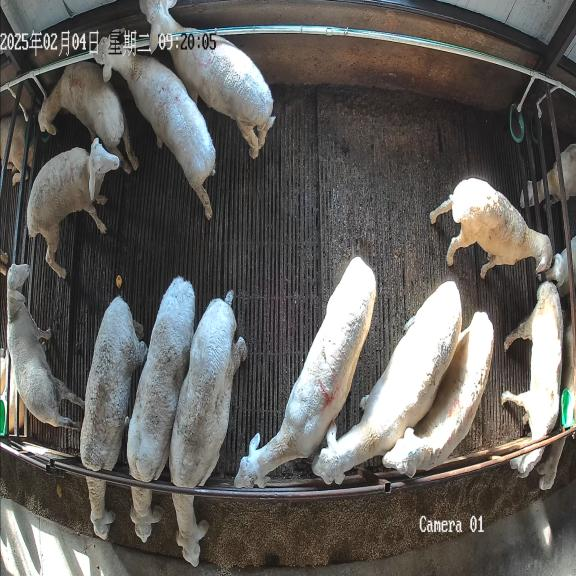drinking: (38, 62, 139, 174)
eating: (169, 290, 247, 566), (127, 277, 195, 542), (80, 296, 148, 539), (501, 281, 563, 478)
stand: (234, 257, 376, 487), (312, 281, 462, 484), (94, 29, 215, 219), (140, 0, 275, 158), (383, 312, 493, 477), (7, 264, 84, 430), (27, 139, 119, 277), (430, 178, 552, 278)
